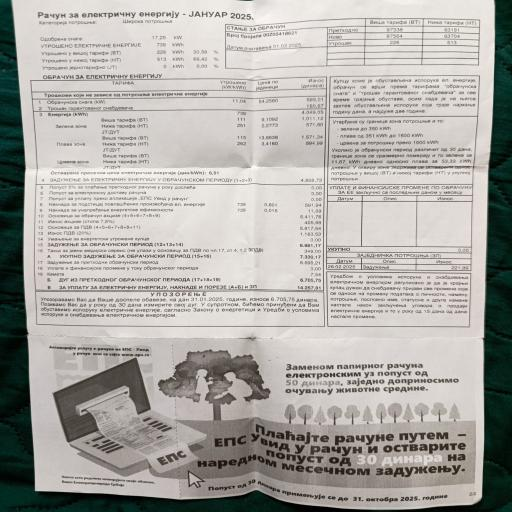racun_za_struju: (29, 69, 328, 184)
